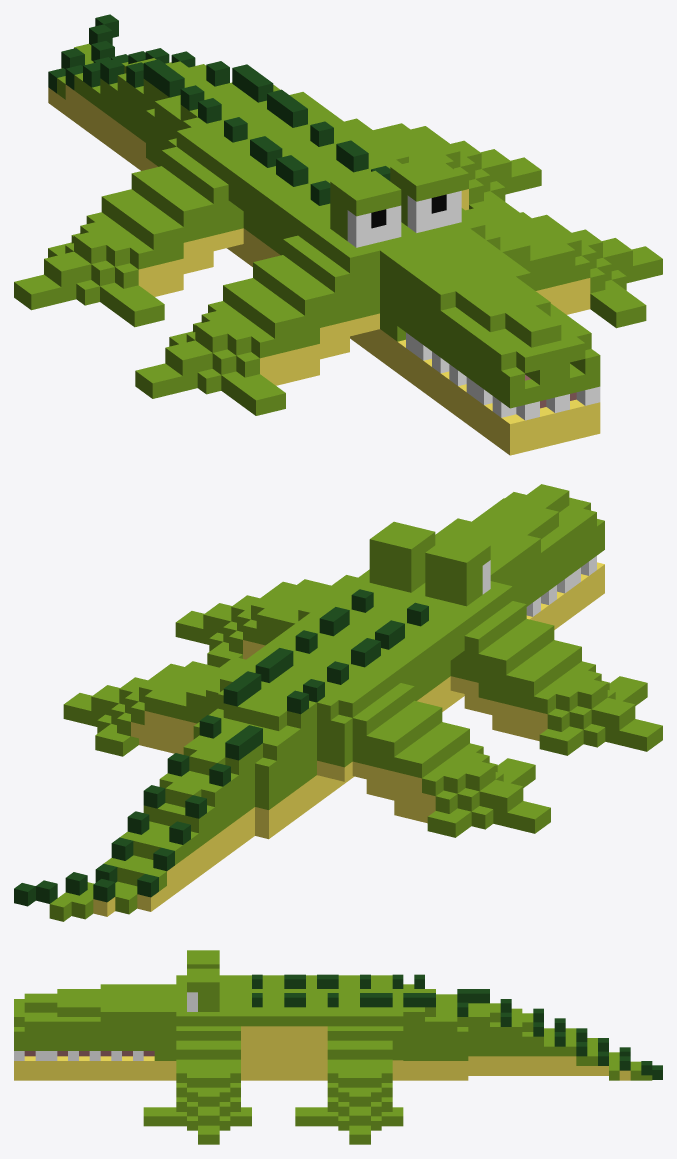
File: cocodrilo.obj
3 renders of one model, top to bottom at view 1: azimuth 30°, elevation 25°; view 2: azimuth 150°, elevation 25°; view 3: azimuth 270°, elevation 25°, orthographic. The views are drawn at different scales.
Size of the model in its own units: 3.4 by 1 by 6.
Materials: 1 (1 with a texture image).
